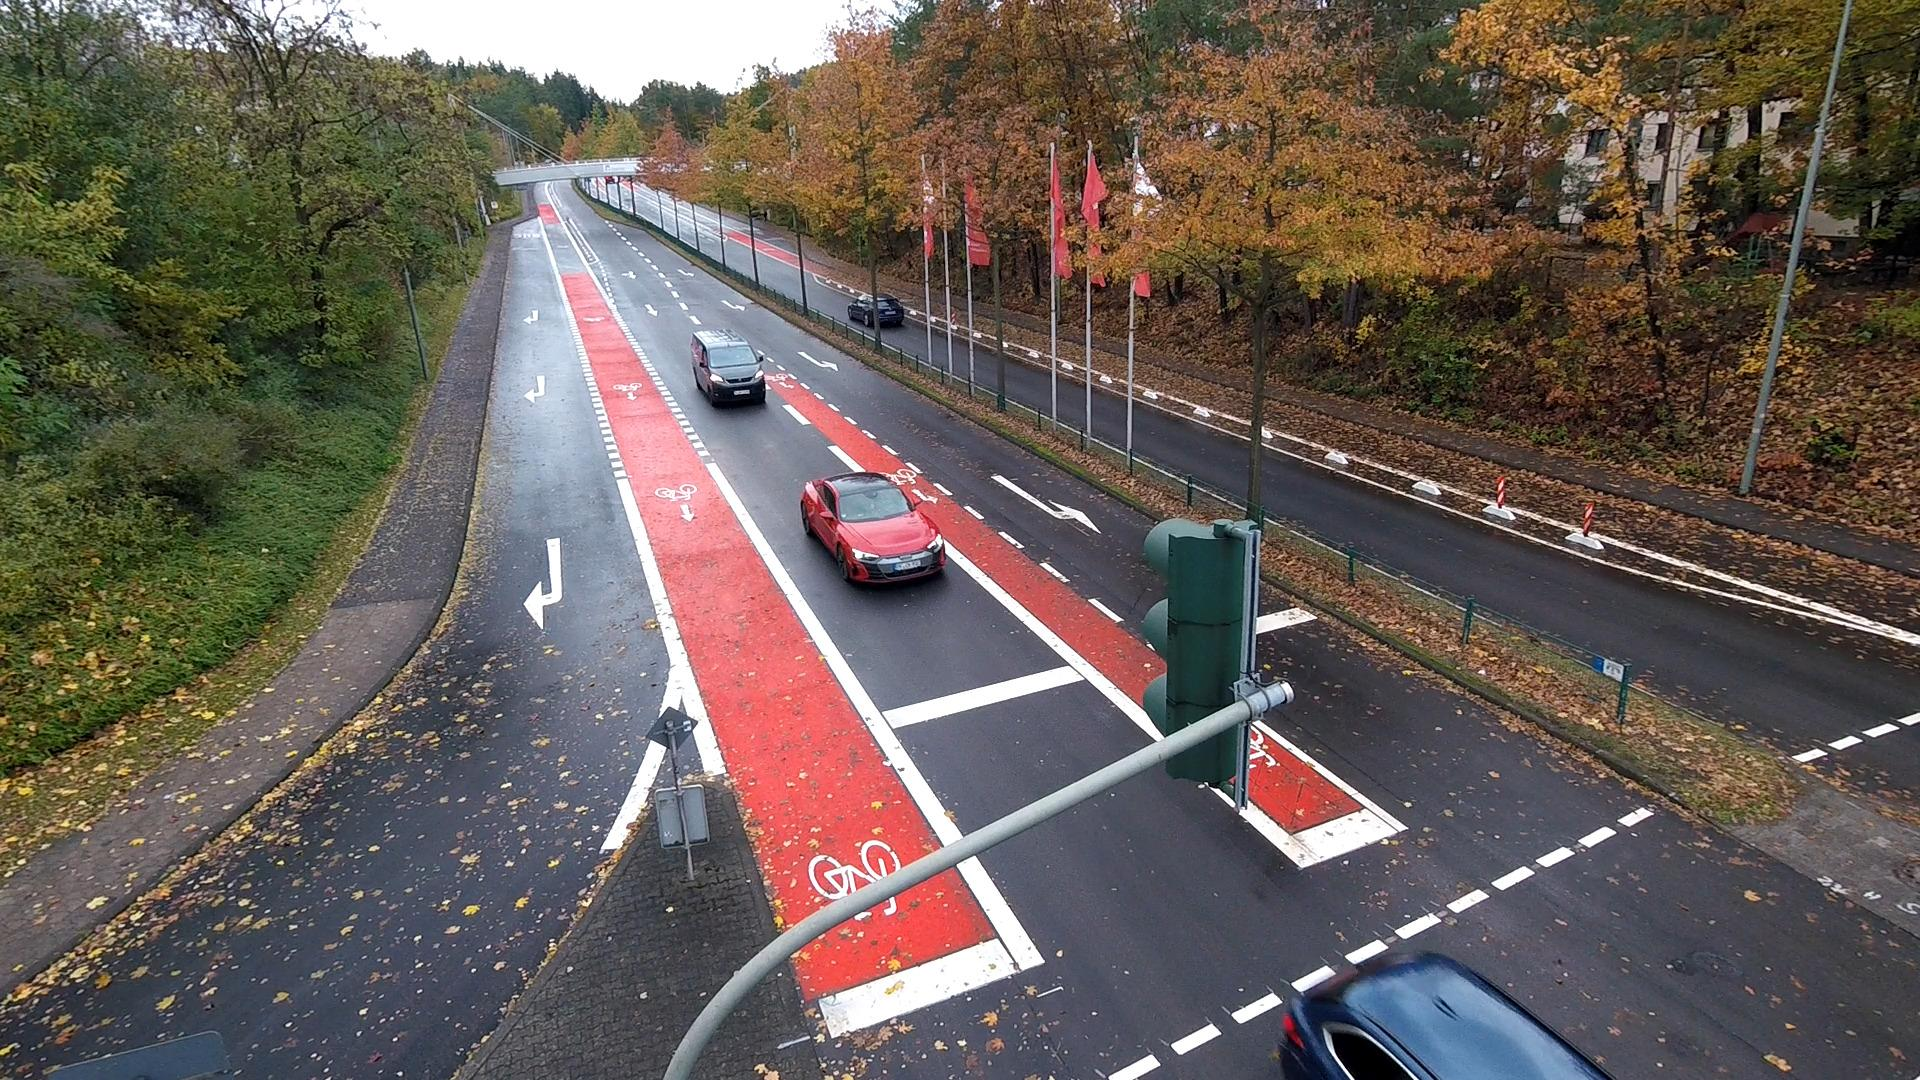bicycle-lane: (534, 182, 960, 934), (754, 345, 1165, 745), (1262, 395, 1920, 634), (787, 853, 1045, 1043), (1240, 723, 1407, 867), (1131, 360, 1252, 423), (802, 256, 872, 295), (1002, 322, 1052, 357), (877, 282, 928, 315), (754, 237, 802, 270), (1093, 347, 1128, 379), (1056, 338, 1086, 367), (722, 224, 752, 248), (972, 311, 997, 338), (696, 212, 722, 236), (634, 185, 659, 205), (951, 306, 969, 329), (929, 300, 947, 322), (659, 196, 677, 212), (677, 205, 693, 222), (916, 295, 927, 313), (620, 181, 632, 190)
car: (799, 472, 945, 581), (690, 330, 765, 405), (848, 296, 908, 326), (602, 175, 619, 182)
car-lane: (0, 215, 674, 1080), (815, 575, 1920, 1080), (552, 179, 1172, 838), (1257, 444, 1920, 827), (1134, 400, 1254, 512), (804, 268, 873, 338), (1004, 351, 1051, 420), (756, 249, 805, 308), (1091, 384, 1128, 453), (880, 313, 928, 364), (1056, 368, 1088, 434), (724, 234, 757, 282), (972, 343, 999, 396), (752, 225, 798, 254), (696, 223, 724, 265), (635, 192, 660, 228), (953, 332, 970, 381), (932, 324, 949, 372), (677, 214, 697, 249), (723, 213, 752, 236), (660, 206, 677, 240), (635, 180, 660, 197), (696, 203, 718, 222), (605, 181, 620, 208), (619, 182, 632, 210), (597, 180, 608, 203), (677, 200, 694, 212), (588, 178, 596, 198), (660, 191, 672, 203)
